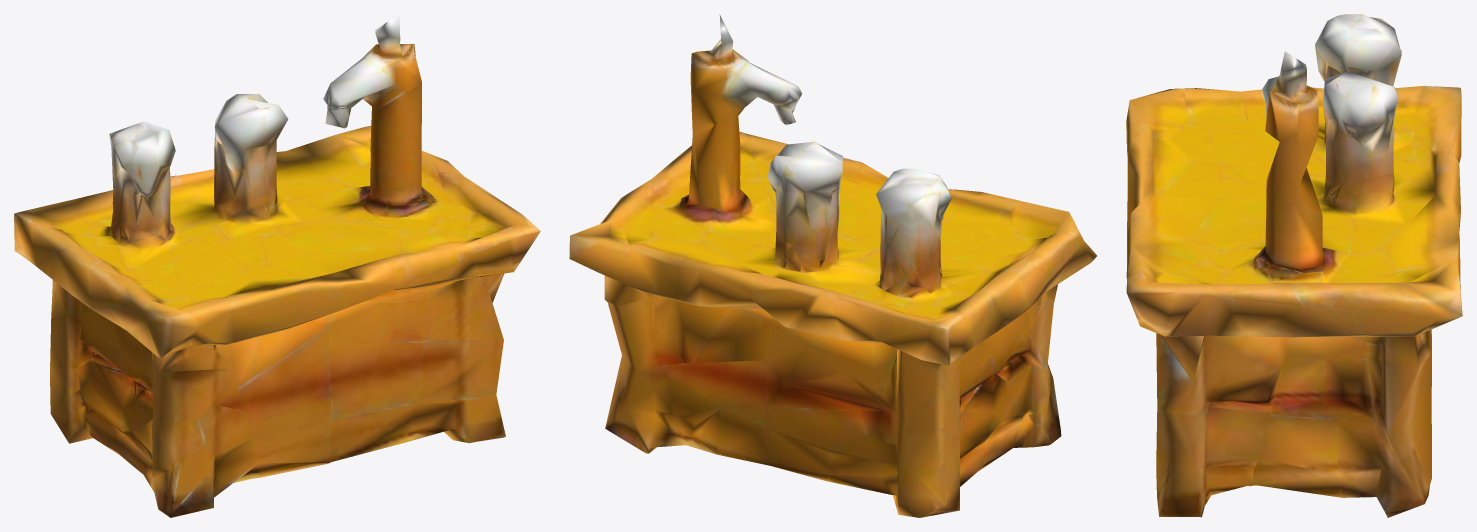
The model's file is bar-counter.glb.
3 renders of one model, left to right at view 1: azimuth 30°, elevation 25°; view 2: azimuth 150°, elevation 25°; view 3: azimuth 270°, elevation 25°, orthographic. The views are drawn at different scales.
Visible parts, largest first — view 1: Mesh_0.001; view 2: Mesh_0.001; view 3: Mesh_0.001.
Part boxes in pixels (x1=…): Mesh_0.001: x1=14, y1=14, x2=540, y2=517; Mesh_0.001: x1=569, y1=14, x2=1096, y2=517; Mesh_0.001: x1=1126, y1=14, x2=1462, y2=517.
Size of the model in its own units: 1.2 by 1.19 by 0.8211.
1 material, 1 textured.
